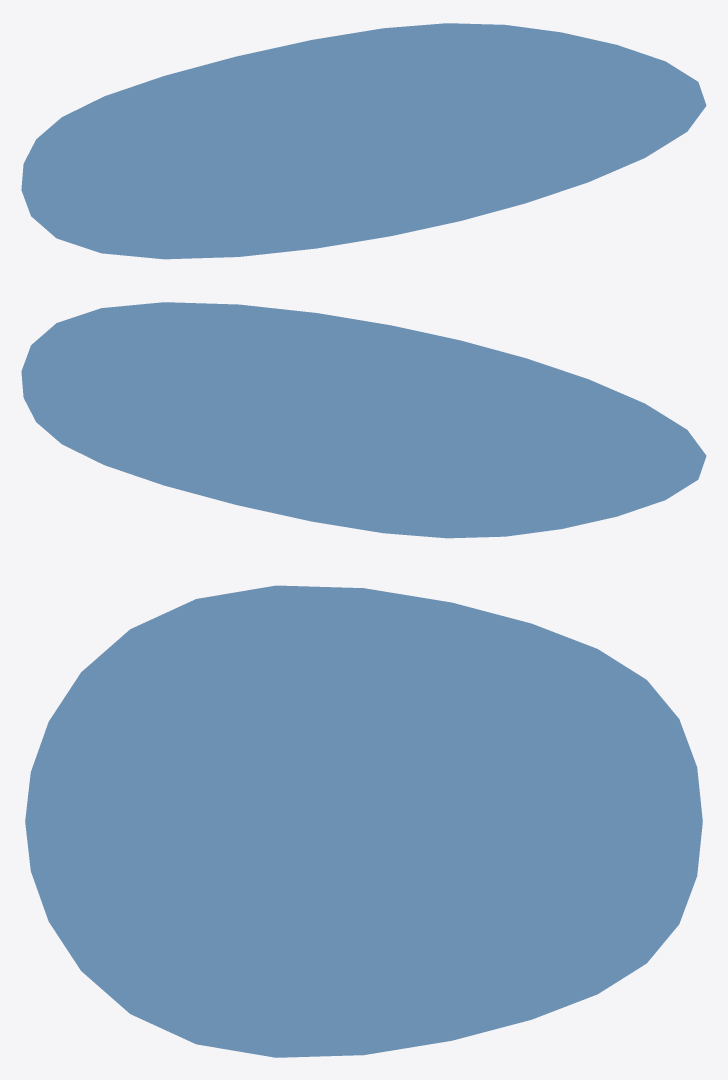
The model's file is env_pbg_lake.fbx.
3 views of the same model, one above another, from view 1: azimuth 30°, elevation 25°; view 2: azimuth 150°, elevation 25°; view 3: azimuth 270°, elevation 25° (orthographic). The views are drawn at different scales.
Parts seen in each view (by area): view 1: env_pbg_lake_geo; view 2: env_pbg_lake_geo; view 3: env_pbg_lake_geo.
Boxes of the visible parts, x1,y1,x2,y2 form: env_pbg_lake_geo: (21, 23, 706, 259); env_pbg_lake_geo: (21, 302, 706, 538); env_pbg_lake_geo: (25, 585, 702, 1057).
Bounding box in the file's own units: 30.95 × 0.415 × 19.
